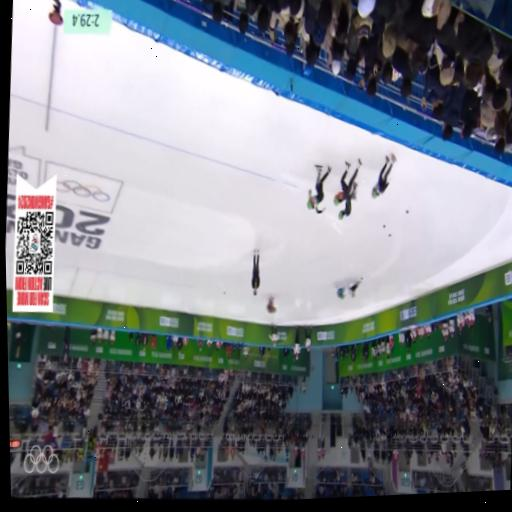Skater: (333, 158, 360, 204), (307, 165, 330, 212), (372, 155, 394, 198), (338, 182, 356, 218), (347, 280, 361, 298), (266, 295, 277, 313), (335, 284, 346, 300)
